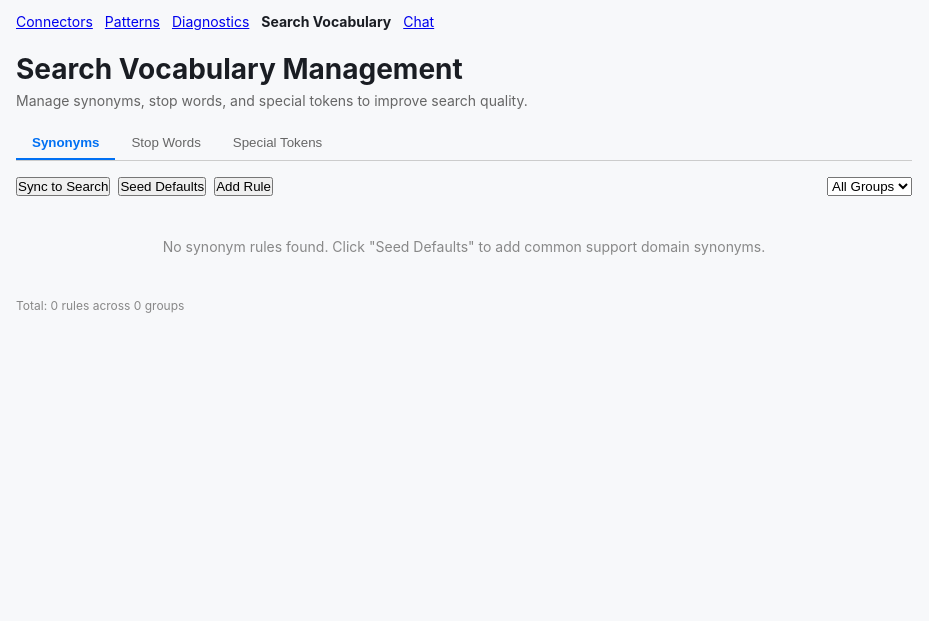
Test case: SynonymManagementPage › shows create form for special tokens
Click the button "Special Tokens".
click(278, 144)  # box [217,127,338,160]
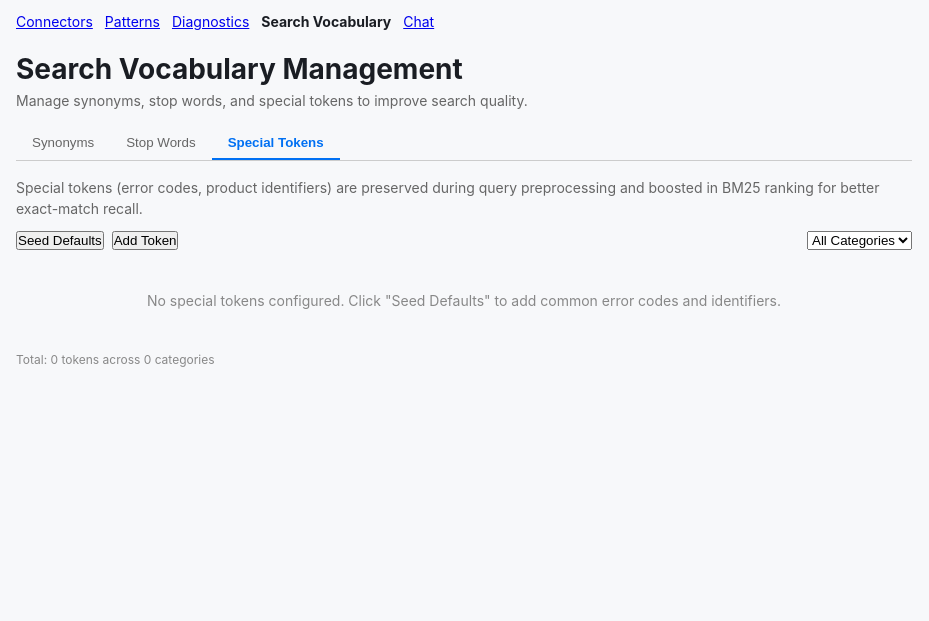
Check: the button "Add Token" is shown
Click the button "Add Token".
click(145, 240)  # box [112,231,178,250]
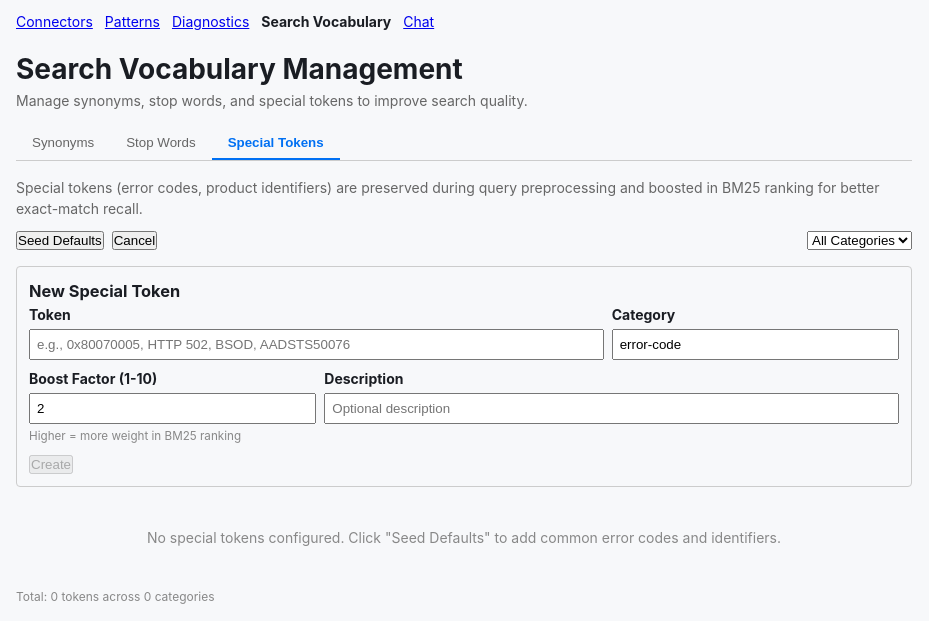
Check: the heading "New Special Token" is shown, box [29,281,180,301]
